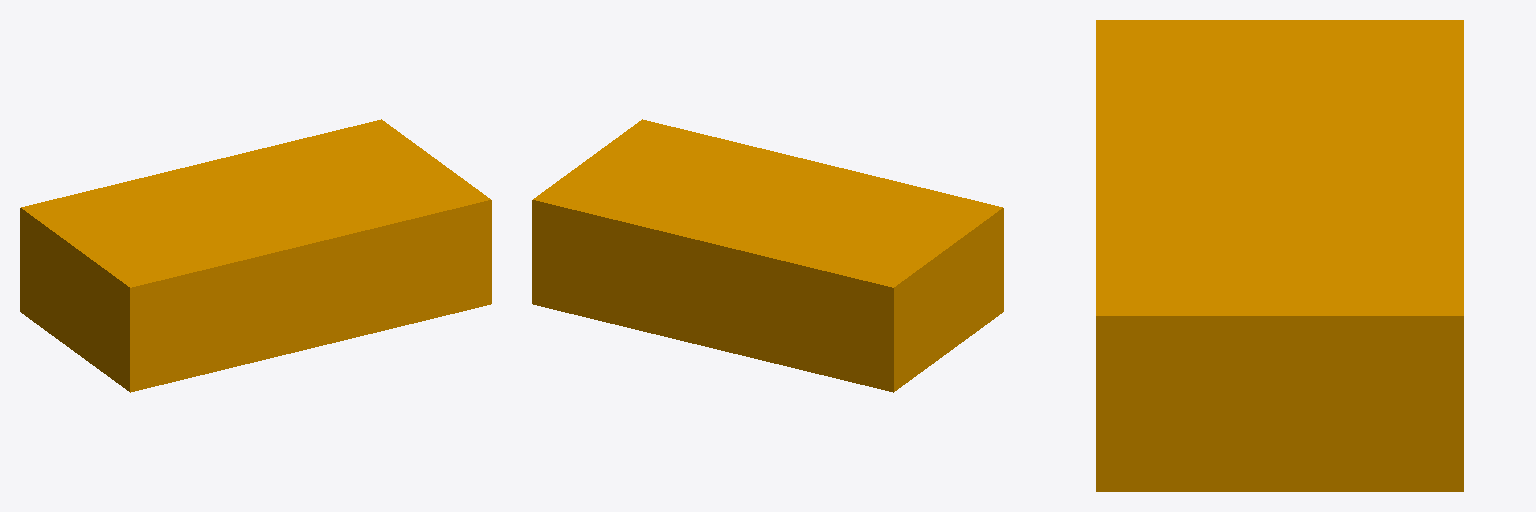
The robot description file, URDF, robot "box":
<?xml version="0.0" ?>
<robot name="box">
  <link name="body">
    <visual>
      <geometry>
        <mesh filename="obj/box.obj" scale=".095 .095 .5"/>
      </geometry>
      <origin rpy="0 0 0" xyz="0 0 0"/>
    </visual>
    <collision>
      <geometry>
        <mesh filename="obj/box.obj" scale=".095 .095 .5"/>
      </geometry>
      <origin rpy="0 0 0" xyz="0 0 0"/>
    </collision>
    <inertial>
      <mass value="1"/>
      <inertia ixx="1" ixy="0" ixz="0" iyy="1" iyz="0" izz="1"/>
      <origin rpy="0 0 0" xyz="0 0 0"/>
    </inertial>
  </link>

</robot>

--- What the picture shows (computed from the rendered views, not written in the file) ---
3 views of the same robot in one strip: view 1: azimuth 30°, elevation 25°; view 2: azimuth 150°, elevation 25°; view 3: azimuth 270°, elevation 25° (orthographic).
Model box with 1 links and 0 joints (none), rooted at body, posed every joint at zero.
Links seen in each view (by area): view 1: body; view 2: body; view 3: body.
Link boxes in pixels (left/top/right/bottom): body: left=20, top=119, right=491, bottom=392; body: left=532, top=119, right=1003, bottom=392; body: left=1096, top=20, right=1463, bottom=491.
Size in the robot's own frame: 1.8 by 0.95 by 0.5 metres.
1 mesh visuals loaded from 1 distinct referenced files (1 OBJ).